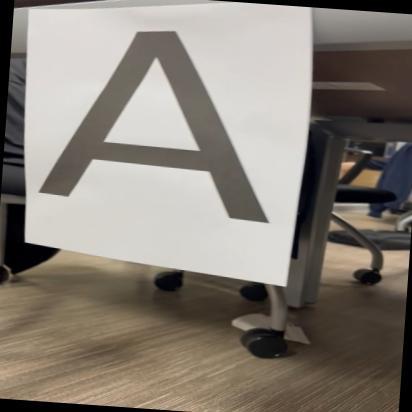seat: (27, 17, 289, 230)
